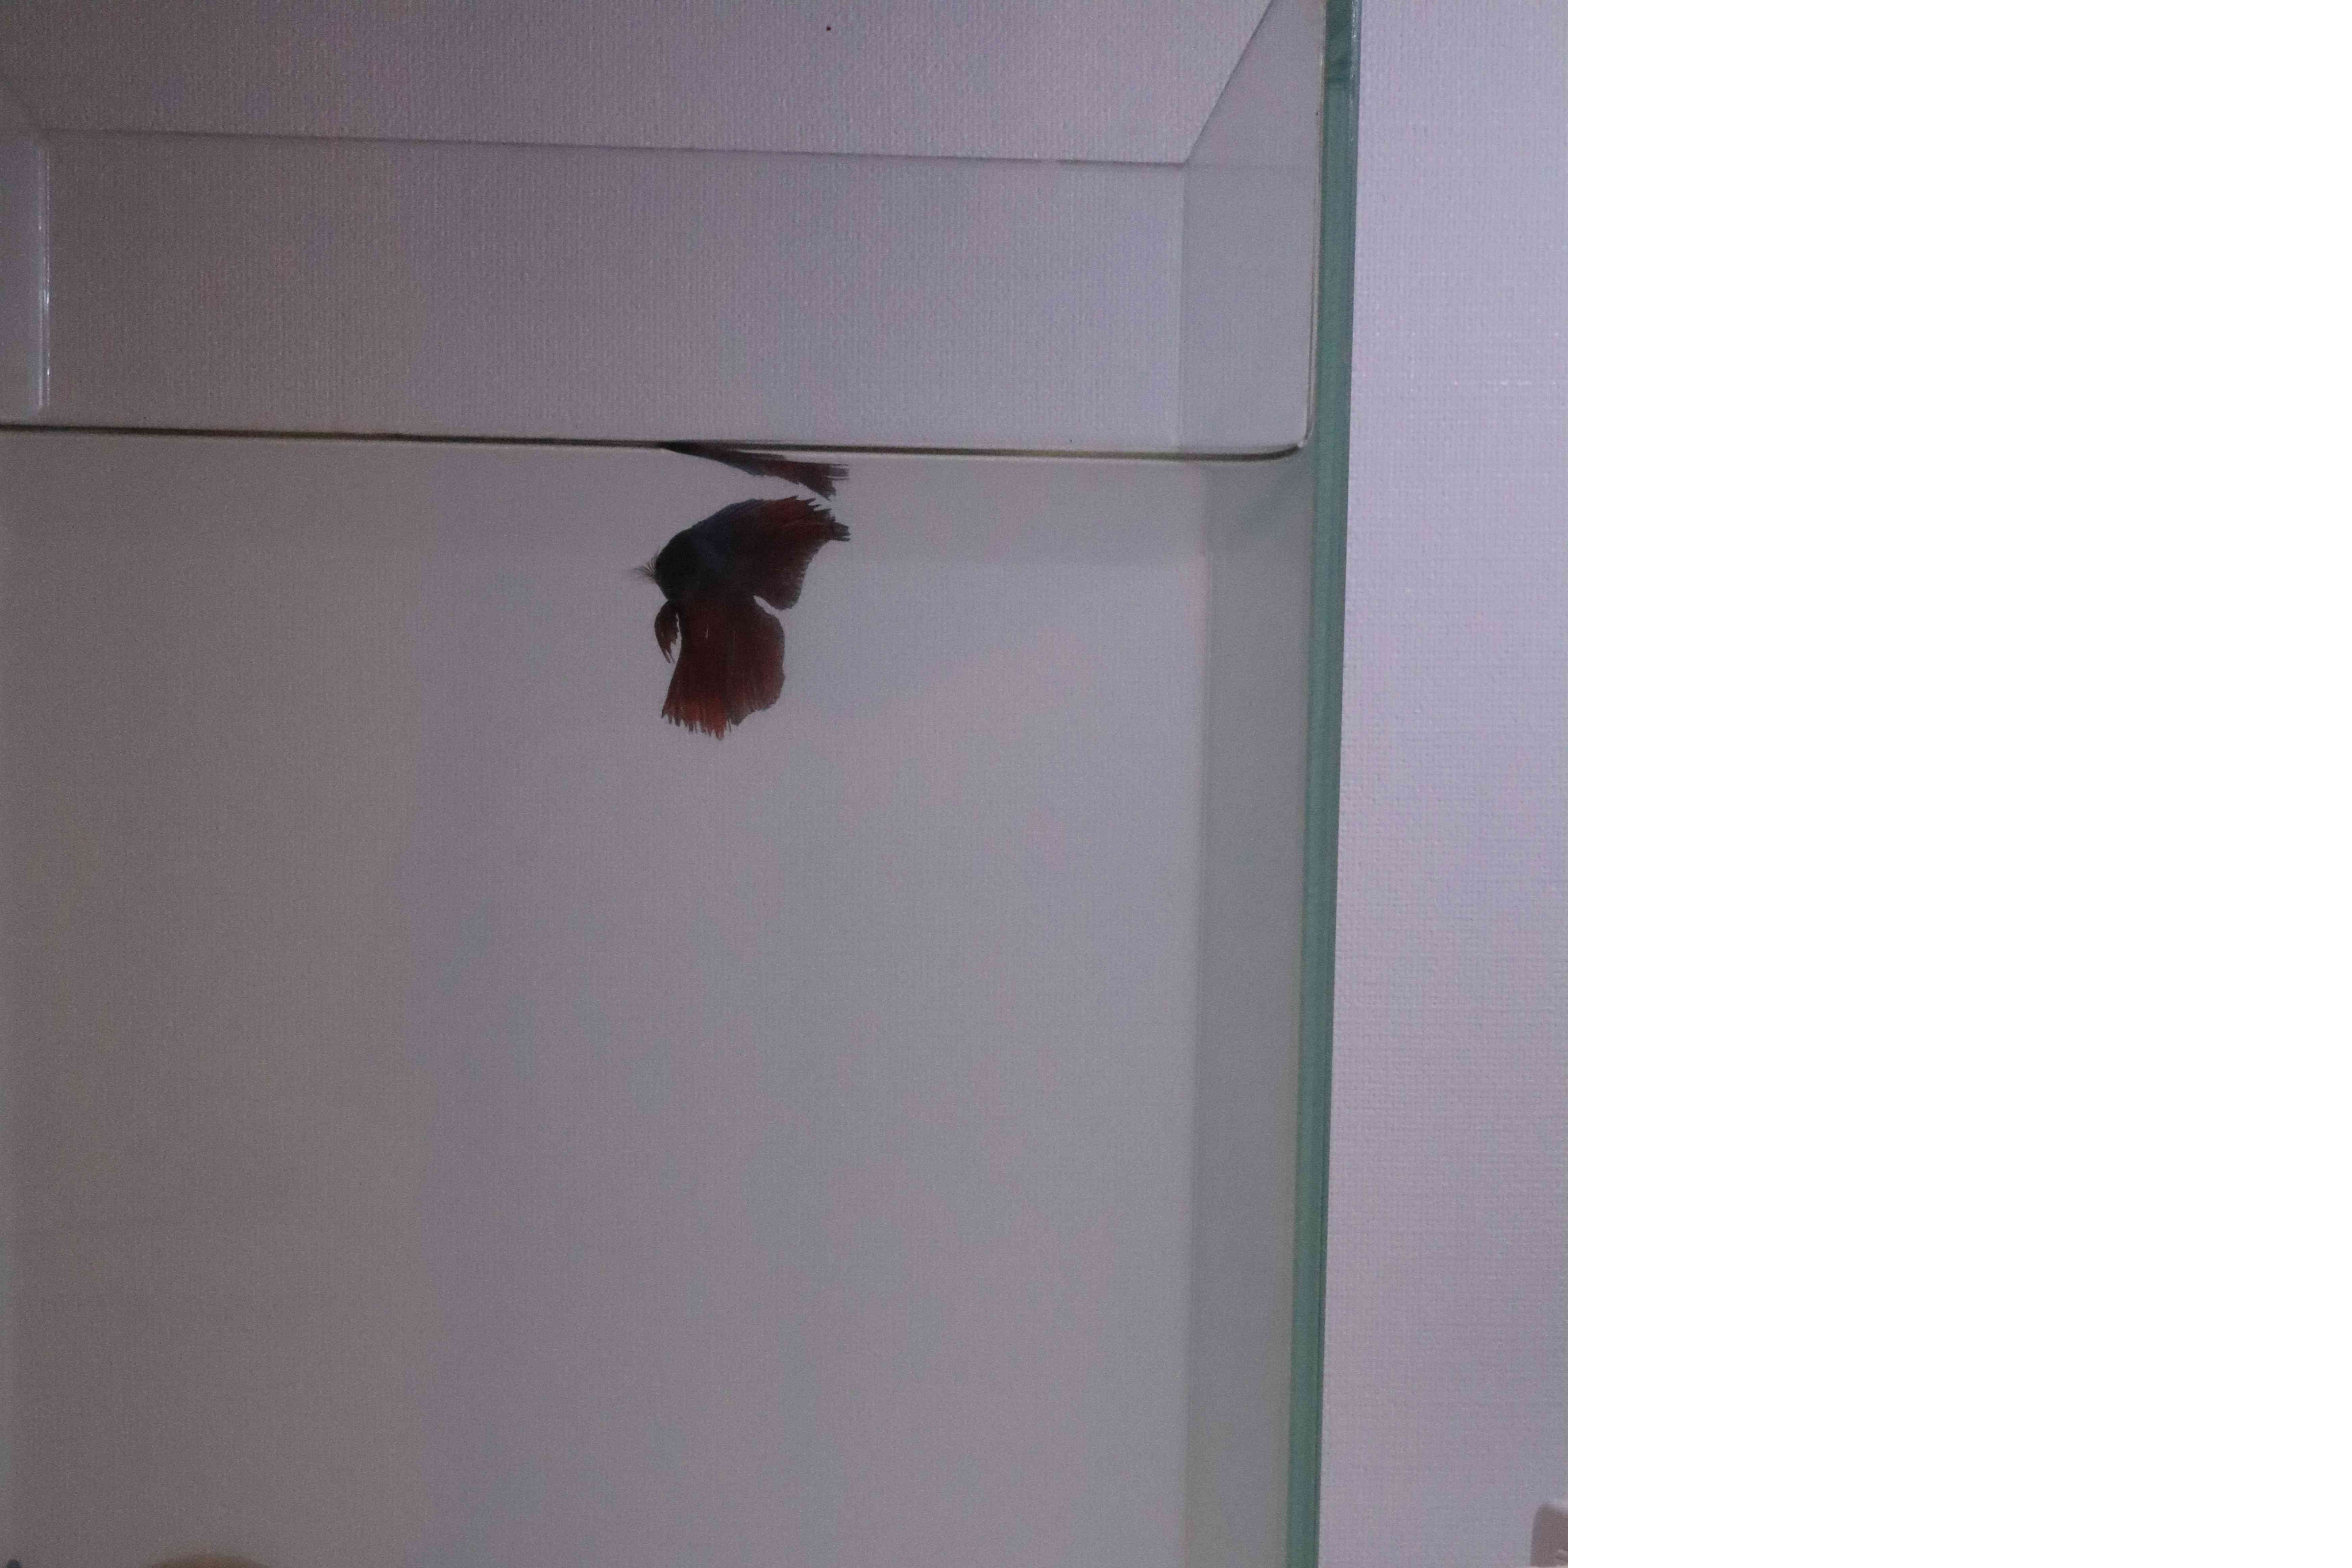fish: (627, 495, 872, 756)
